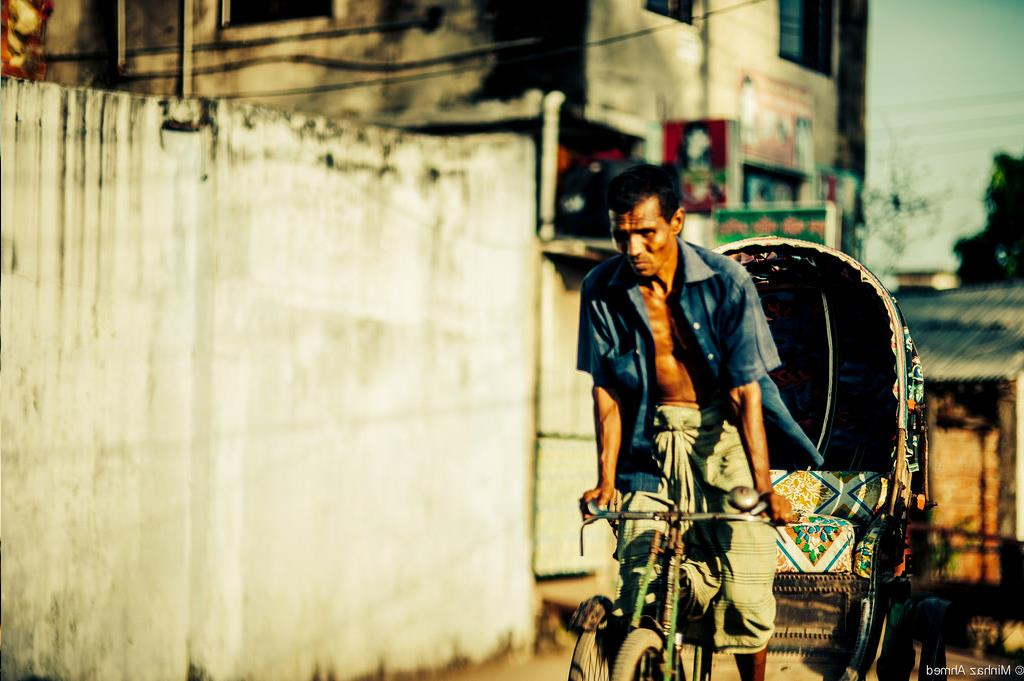Rickshaw: (560, 179, 931, 572)
